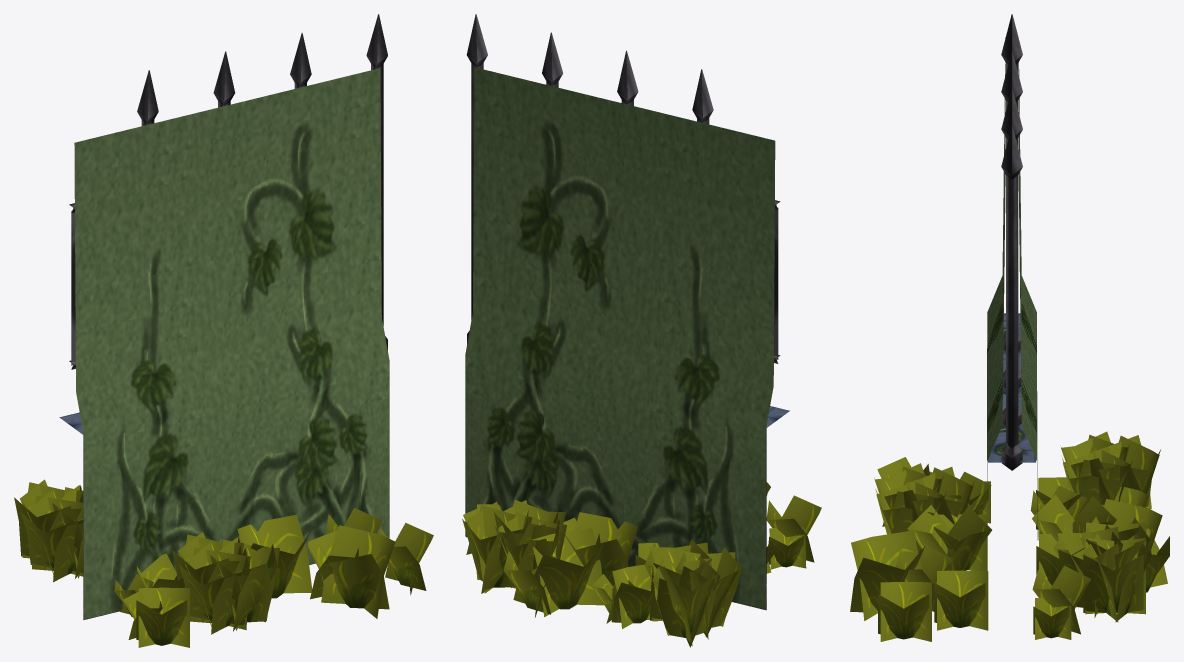
Rendered from a_SWTwall01.glb.
3 renders of one model, left to right at view 1: azimuth 30°, elevation 25°; view 2: azimuth 150°, elevation 25°; view 3: azimuth 270°, elevation 25°, orthographic.
Visible parts, largest first — view 1: a_SWTwall01; view 2: a_SWTwall01; view 3: a_SWTwall01.
Boxes of the visible parts, x1=… form: a_SWTwall01: x1=14, y1=14, x2=433, y2=647; a_SWTwall01: x1=462, y1=14, x2=821, y2=647; a_SWTwall01: x1=850, y1=14, x2=1169, y2=641.
Size of the model in its own units: 2.09 by 3.29 by 1.81.
Materials: 4 (4 with a texture image).
